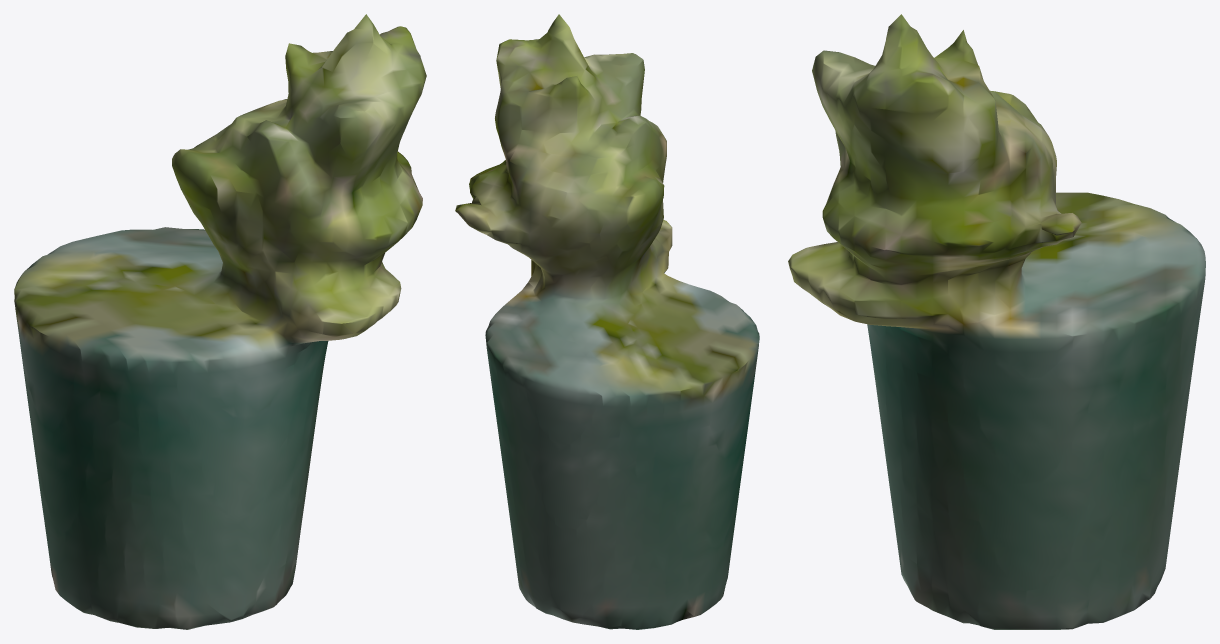
File: prop.glb
3 renders of one model, left to right at view 1: azimuth 30°, elevation 25°; view 2: azimuth 150°, elevation 25°; view 3: azimuth 270°, elevation 25°, orthographic. The views are drawn at different scales.
Parts seen in each view (by area): view 1: potted aloe plant; view 2: potted aloe plant; view 3: potted aloe plant.
Part boxes in pixels (<box>): potted aloe plant: <box>14,14,426,629</box>; potted aloe plant: <box>455,14,759,629</box>; potted aloe plant: <box>788,14,1205,629</box>.
Bounding box in the file's own units: 0.1187 × 0.1957 × 0.1166.
